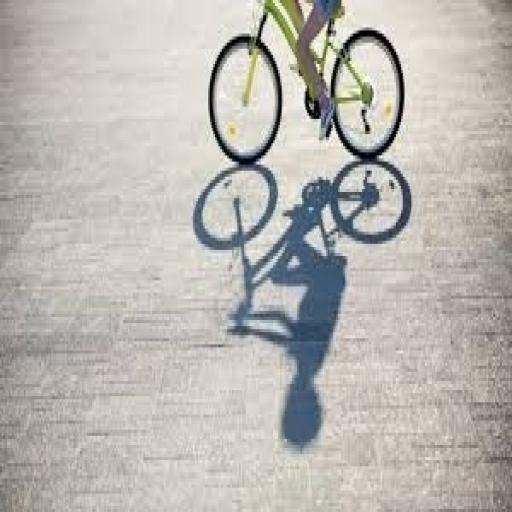cycling: (290, 0, 348, 143)
